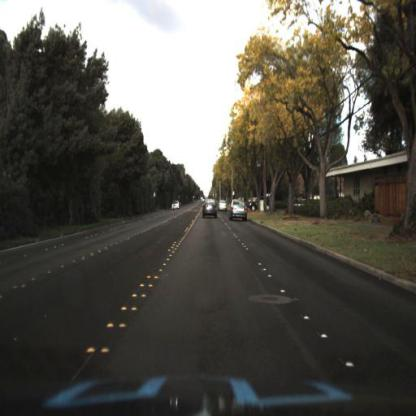car: (250, 192, 277, 220), (200, 194, 222, 225), (228, 197, 251, 225), (171, 198, 184, 214), (219, 198, 229, 214)
